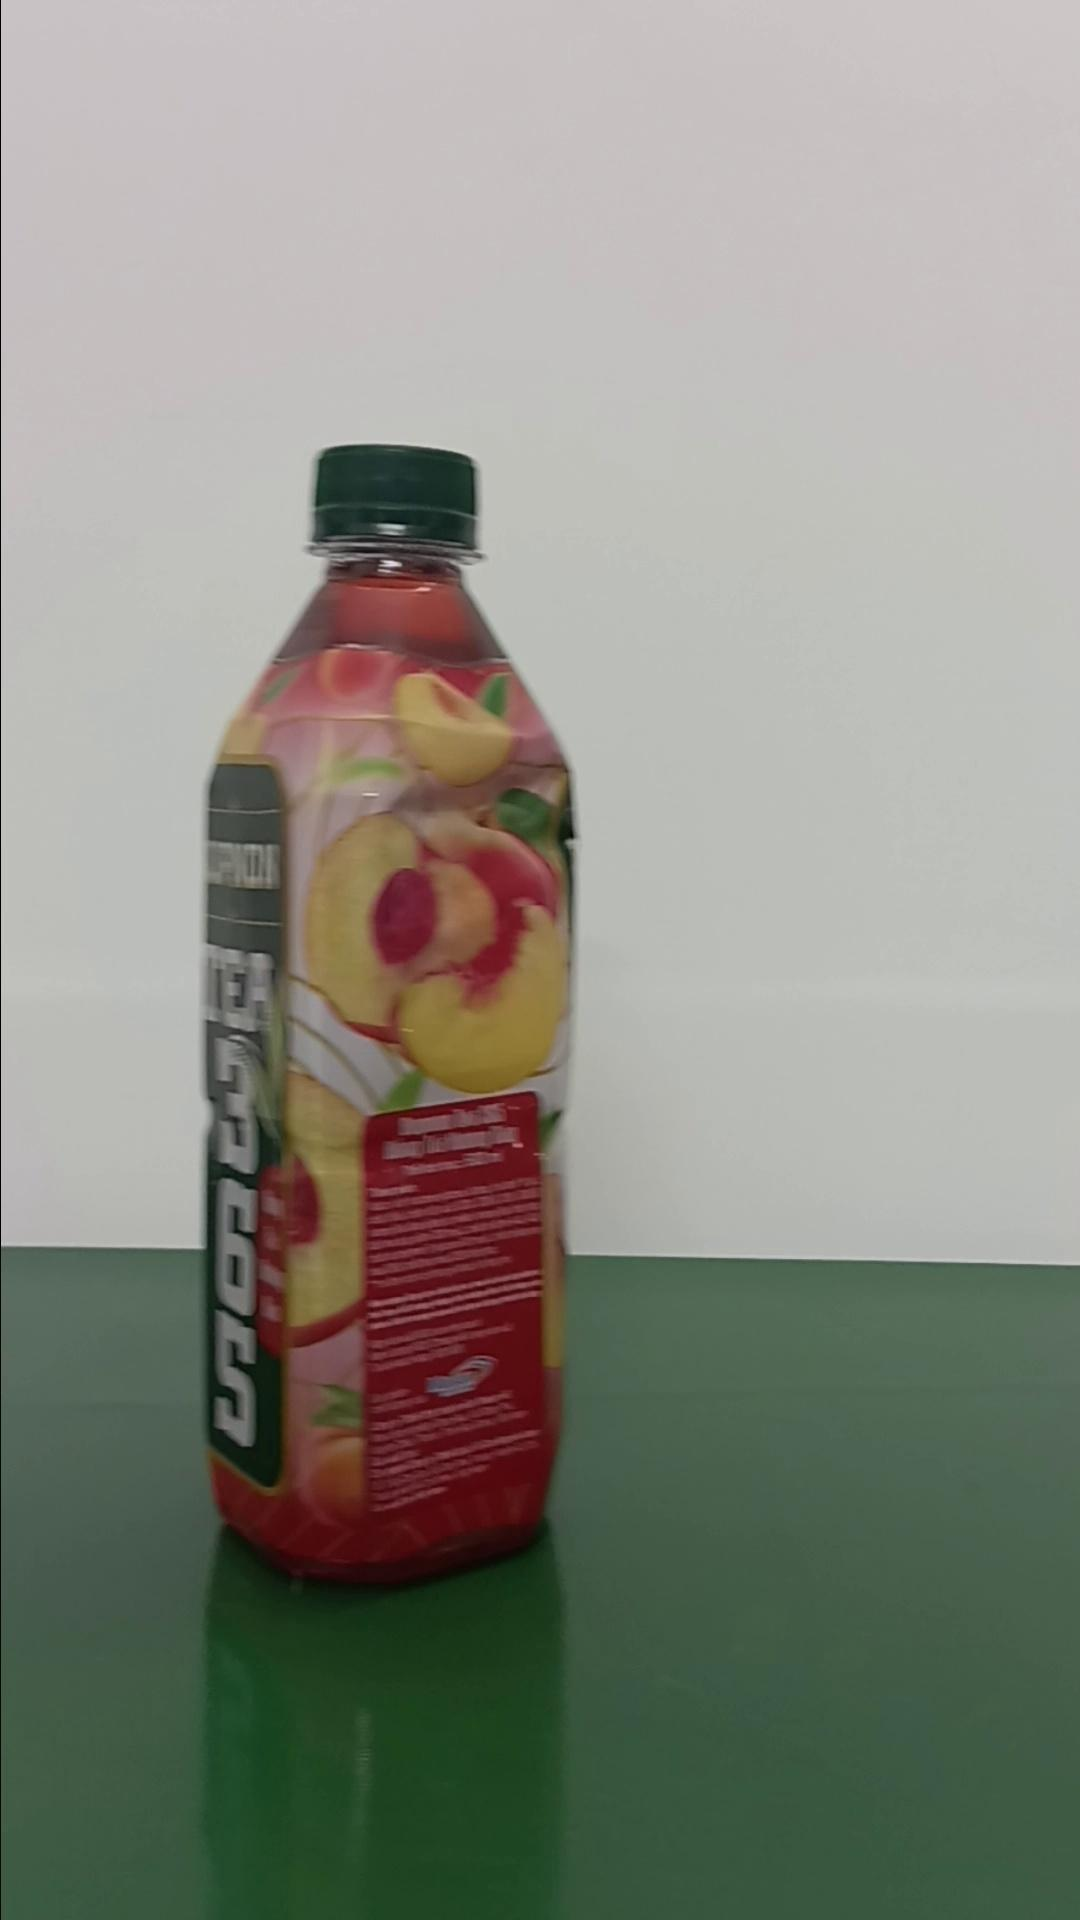loi meo sp: (196, 440, 579, 1585)
